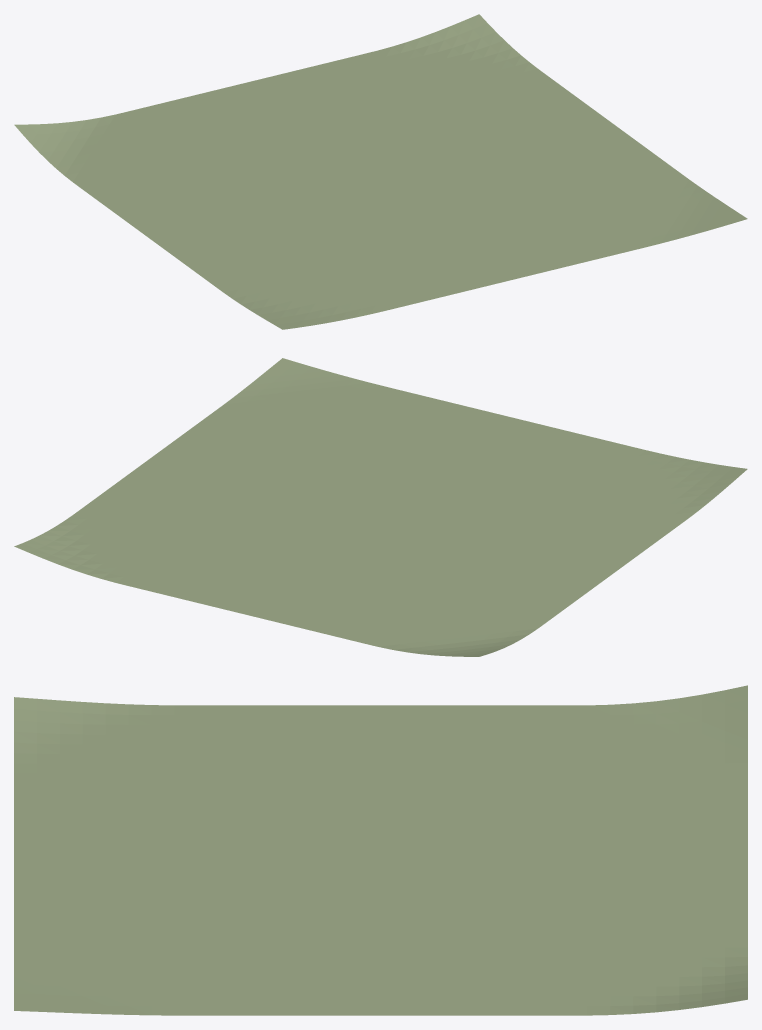
File: gardens-1-4.glb
3 views of the same model, one above another, from view 1: azimuth 30°, elevation 25°; view 2: azimuth 150°, elevation 25°; view 3: azimuth 270°, elevation 25° (orthographic). The views are drawn at different scales.
Visible parts, largest first — view 1: gardens-1-4; view 2: gardens-1-4; view 3: gardens-1-4.
Part boxes in pixels (<box>): gardens-1-4: <box>14,14,747,329</box>; gardens-1-4: <box>14,358,747,656</box>; gardens-1-4: <box>14,685,747,1015</box>.
Size of the model in its own units: 256 by 7.74 by 256.
